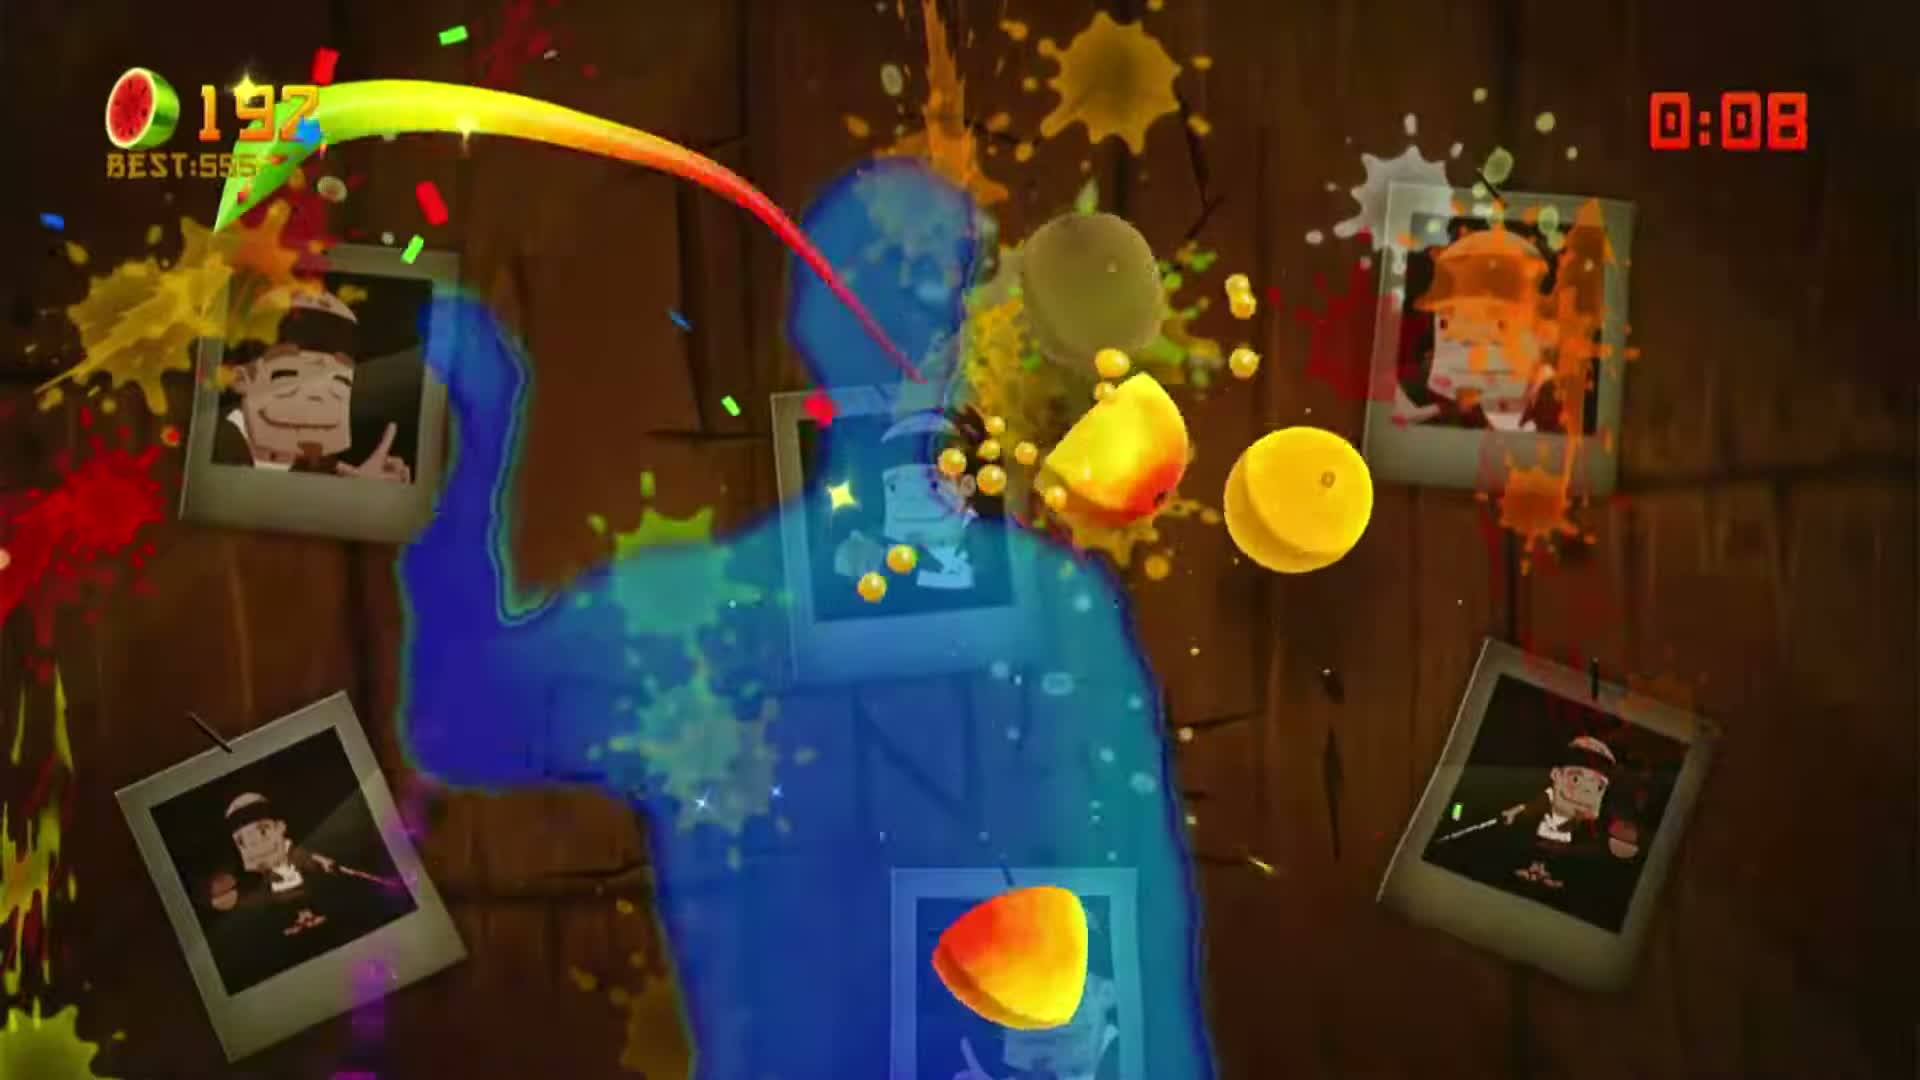blade_trail: (120, 40, 930, 430)
fruit: (940, 860, 1160, 1065), (1211, 360, 1365, 541), (1021, 340, 1164, 510)
